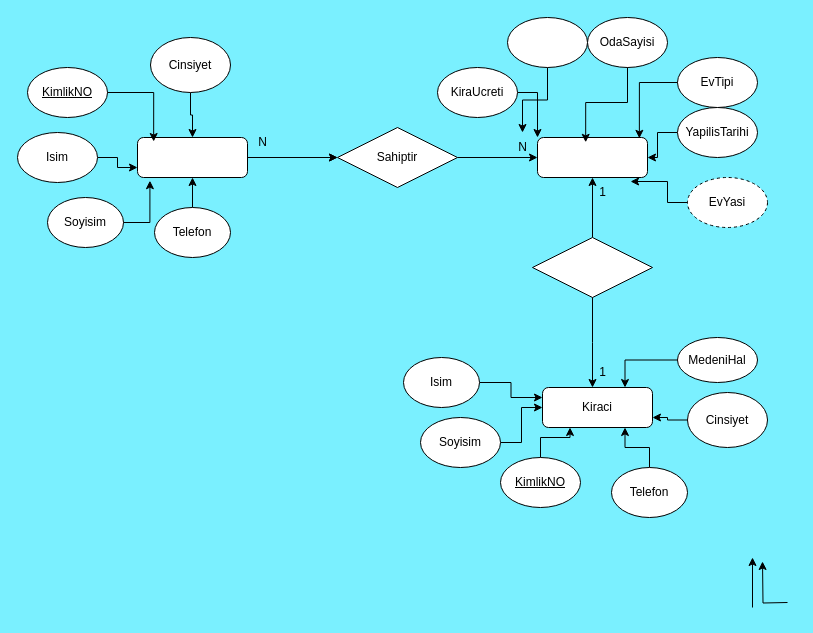
Some shapes in this 813 by 633 pixel diagram are drawn without their labels. The shapes that lost their labels are listed below. From the top down, each one's centre as x and y in pixels, then its label:
At pixel 547 42: "EvNosu".
At pixel 192 157: "EvSahibi".
At pixel 592 157: "Ev".
At pixel 592 267: "Kiralar".
